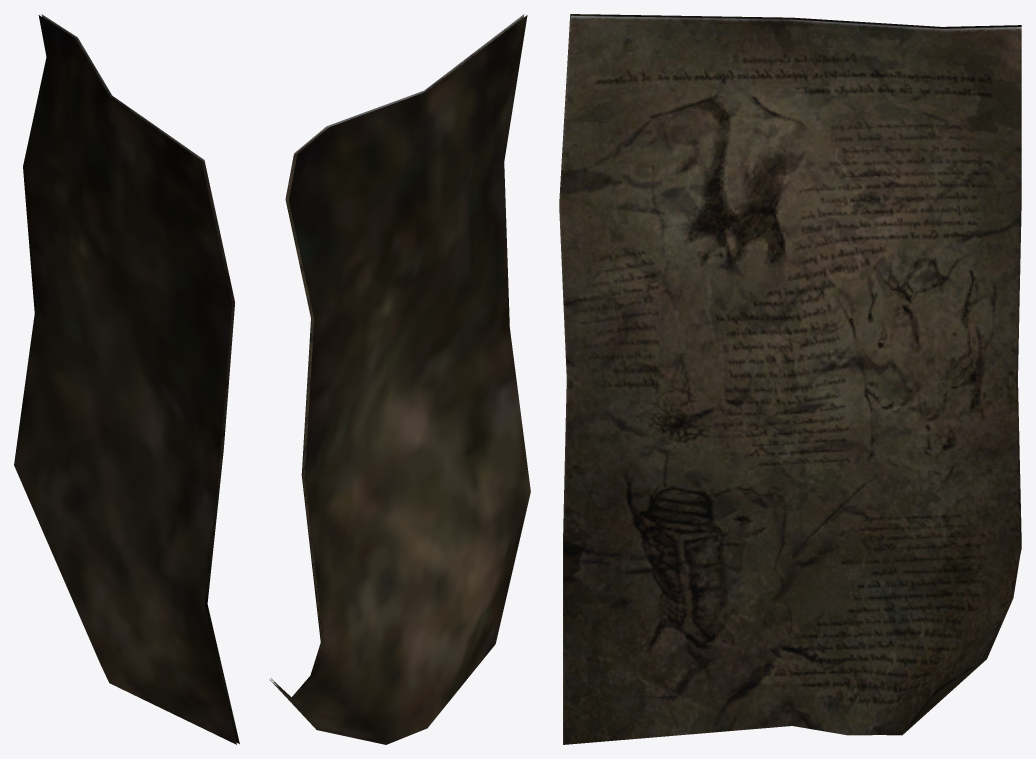
File: sketch_disect_human01_worn.dae
3 views of the same model, side by side, from view 1: azimuth 30°, elevation 25°; view 2: azimuth 150°, elevation 25°; view 3: azimuth 270°, elevation 25° (orthographic). The views are drawn at different scales.
Parts seen in each view (by area): view 1: polySurface8; view 2: polySurface8; view 3: polySurface8.
Boxes of the visible parts, x1,y1,x2,y2 form: polySurface8: (14,14,239,744); polySurface8: (269,14,530,744); polySurface8: (559,14,1021,744).
Bounding box in the file's own units: 0.1751 × 1.16 × 0.6779.
